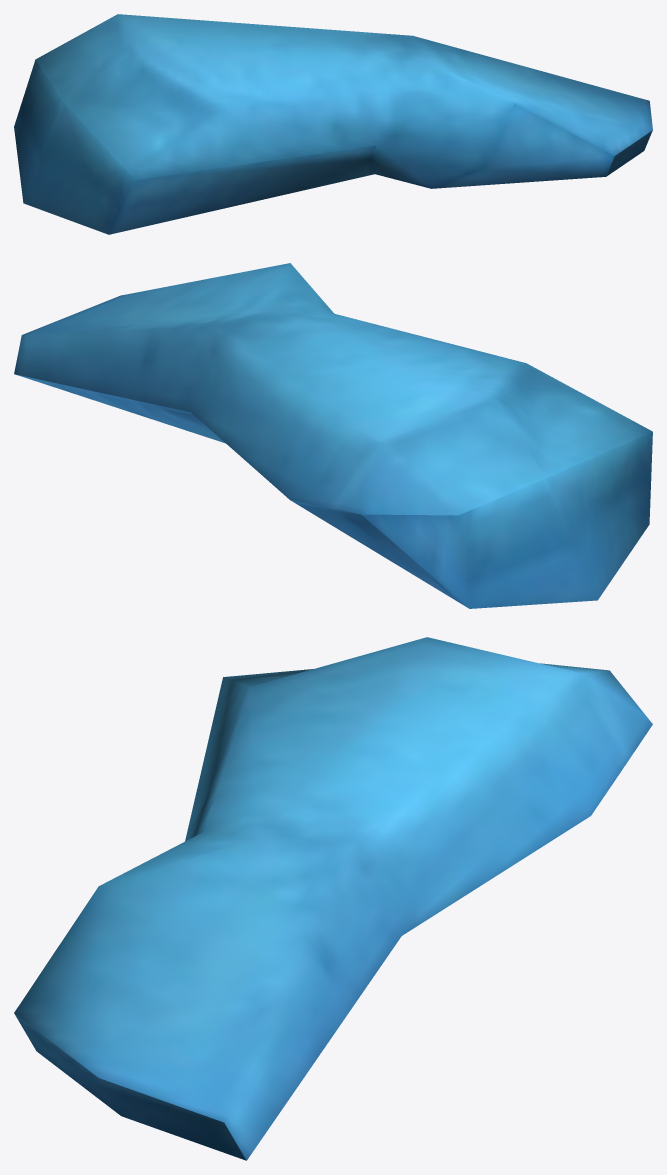
File: Stage_BingYuan_BingLing13.FBX
3 views of the same model, one above another, from view 1: azimuth 30°, elevation 25°; view 2: azimuth 150°, elevation 25°; view 3: azimuth 270°, elevation 25° (orthographic). The views are drawn at different scales.
Visible parts, largest first — view 1: Stage_BingYuan_BingLing13; view 2: Stage_BingYuan_BingLing13; view 3: Stage_BingYuan_BingLing13.
Boxes of the visible parts, x1,y1,x2,y2 form: Stage_BingYuan_BingLing13: (14, 14, 652, 234); Stage_BingYuan_BingLing13: (14, 263, 652, 608); Stage_BingYuan_BingLing13: (14, 637, 652, 1160).
Bounding box in the file's own units: 106 × 24.18 × 71.62.
